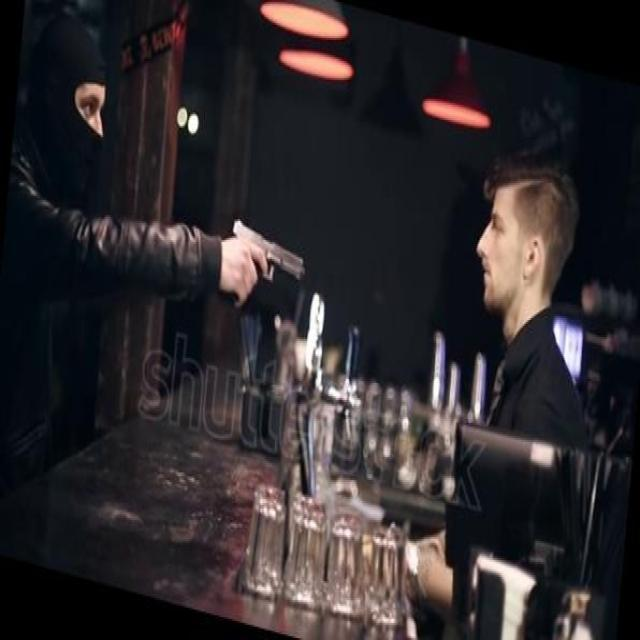pistol: (230, 215, 306, 308)
